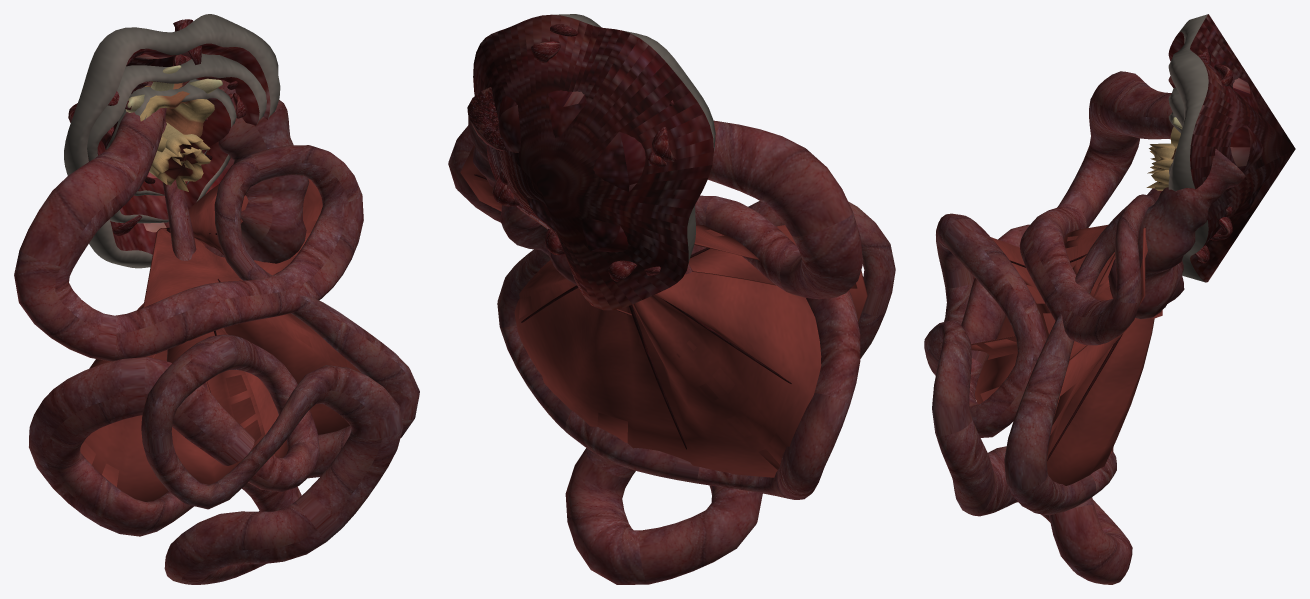
The model's file is brutal-anatomy-v1.glb.
The picture shows the model from 3 angles, left to right: view 1: azimuth 30°, elevation 25°; view 2: azimuth 150°, elevation 25°; view 3: azimuth 270°, elevation 25°; orthographic projection. The views are drawn at different scales.
Visible parts, largest first — view 1: IntestinalBundle, AbdomenWound, NeckWound, ArmWound; view 2: IntestinalBundle, AbdomenWound; view 3: IntestinalBundle, AbdomenWound, NeckWound, ArmWound.
Part boxes in pixels (x1,y1,x2,y2): IntestinalBundle: [14, 80, 419, 584]; AbdomenWound: [64, 14, 280, 268]; NeckWound: [87, 53, 266, 223]; ArmWound: [106, 79, 236, 195]; IntestinalBundle: [448, 87, 895, 584]; AbdomenWound: [473, 14, 715, 310]; IntestinalBundle: [924, 71, 1245, 584]; AbdomenWound: [1168, 14, 1295, 282]; NeckWound: [1146, 76, 1232, 217]; ArmWound: [1147, 112, 1181, 174].
Size of the model in its own units: 0.312 by 0.4409 by 0.2774.
1 material, 1 textured.
